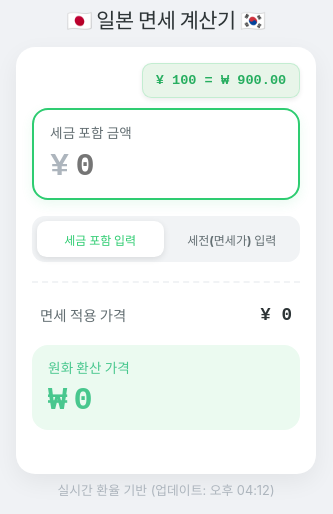
Test: App › calculates the duty-free price correctly when tax-included price is given
Expected: the text "¥ 100 = ₩ 900.00" is shown, [142,63,300,98]
# Clear initial value and set 11,000 JPY
In the field labelled "세금 포함 금액": (179, 167) [76,148,282,185], type "11000"
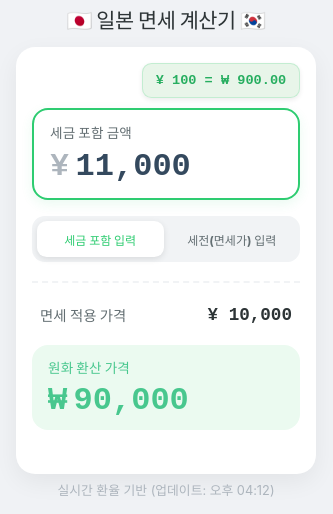
Result: the text "¥ 10,000" is shown at [208,302,292,329]
Result: the text "90,000" is shown at [74,385,189,417]
